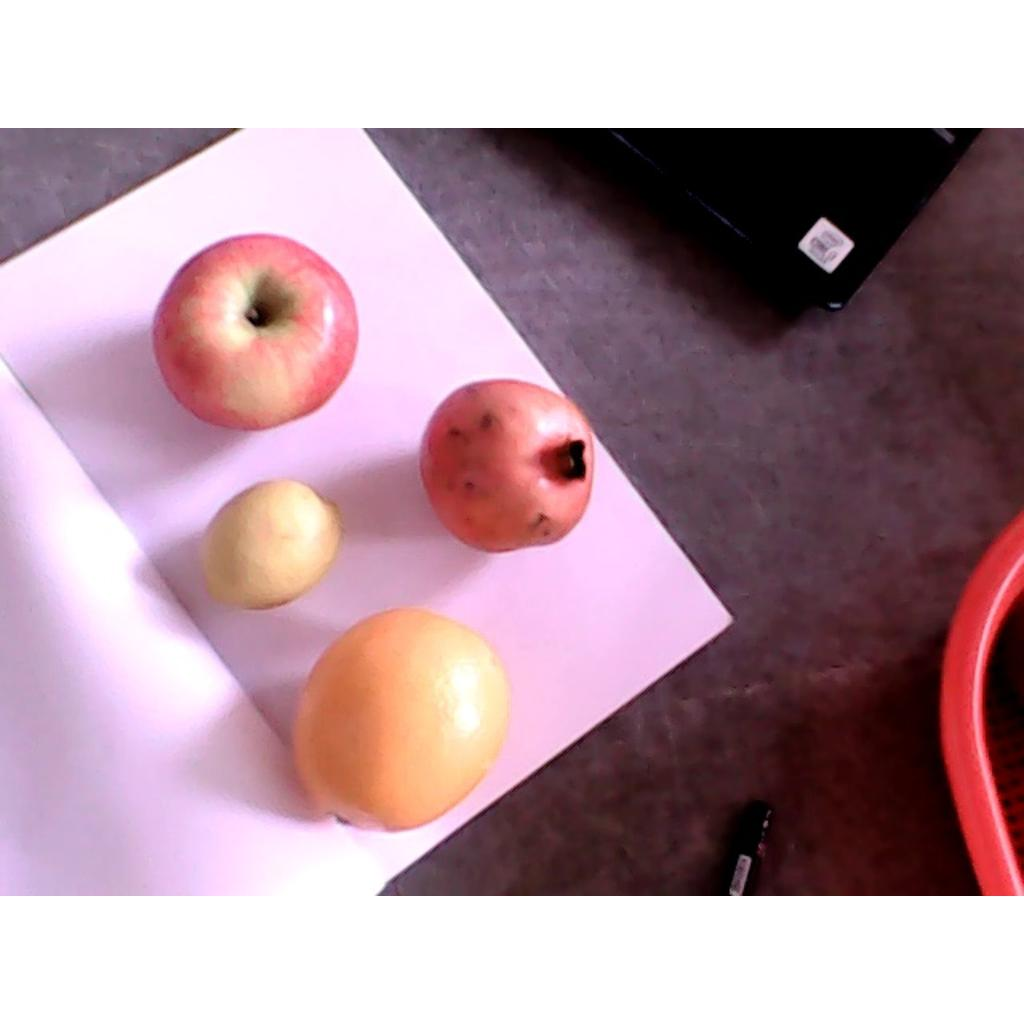apple: (151, 232, 358, 428)
lemon: (197, 479, 343, 610)
orange: (290, 606, 508, 836)
pomegranate: (419, 378, 597, 552)
